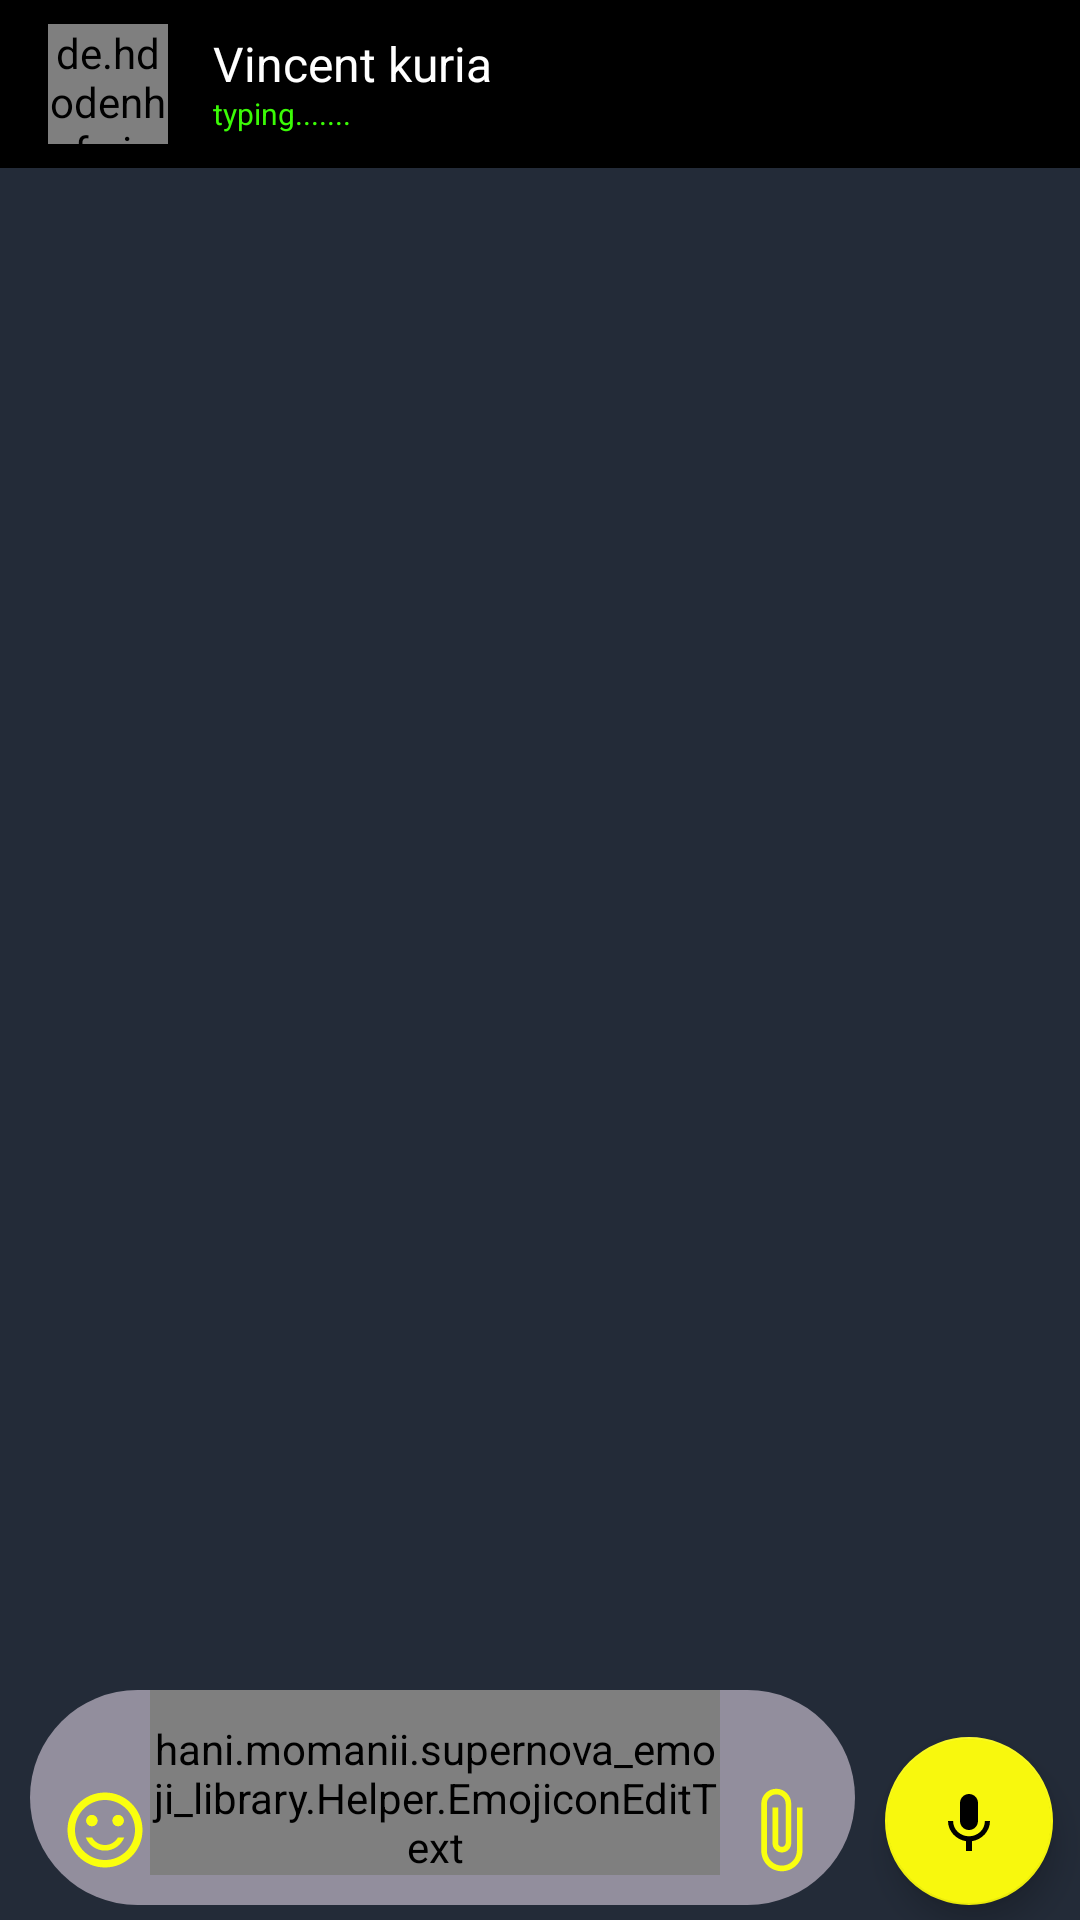

Icon bounding boxes for this 1080x1920 phone screenshot, format {"left": x1, "top": y1, "right": x2, "bottom": y2}:
attach: {"left": 761, "top": 1788, "right": 803, "bottom": 1872}
emojibtn: {"left": 67, "top": 1792, "right": 143, "bottom": 1868}
voice note: {"left": 885, "top": 1737, "right": 1053, "bottom": 1905}
